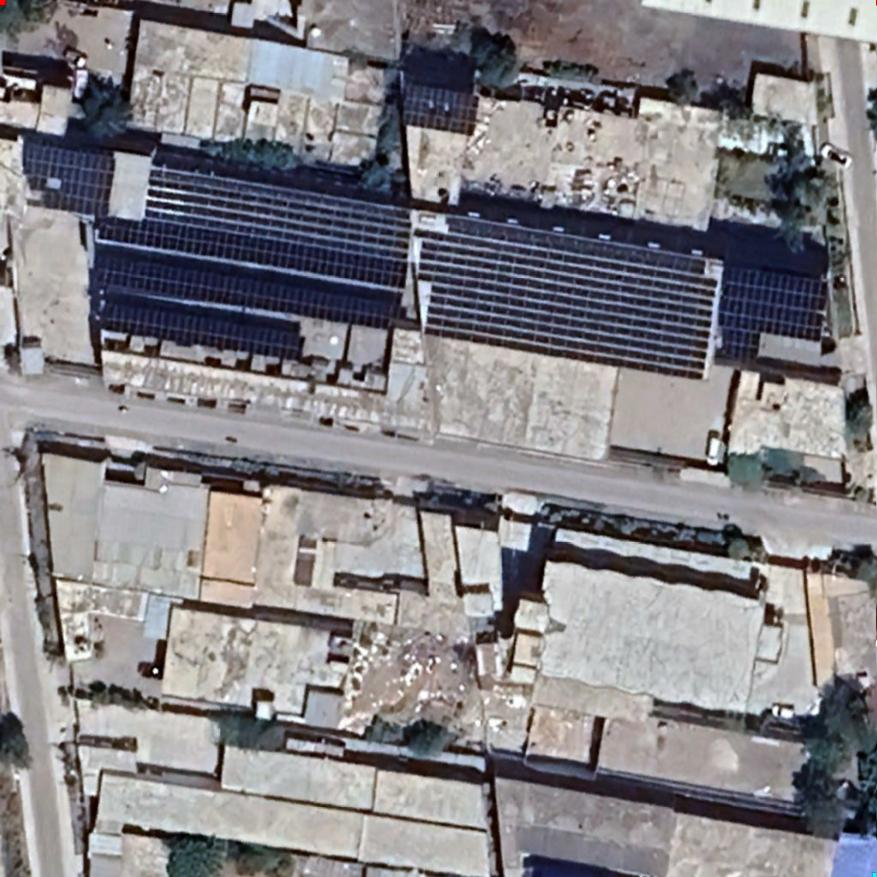Solarpanel: (14, 134, 845, 430), (389, 71, 484, 145)
